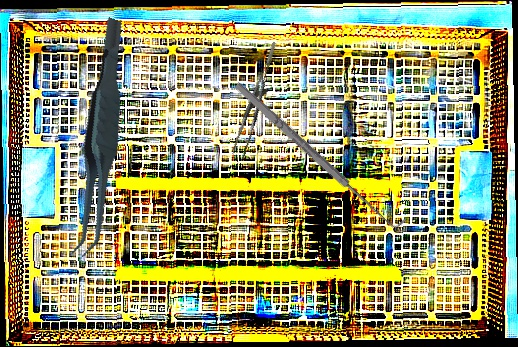Hook Surgical: (231, 74, 408, 235)
Tissue Forceps: (27, 16, 173, 261), (221, 41, 295, 160)
